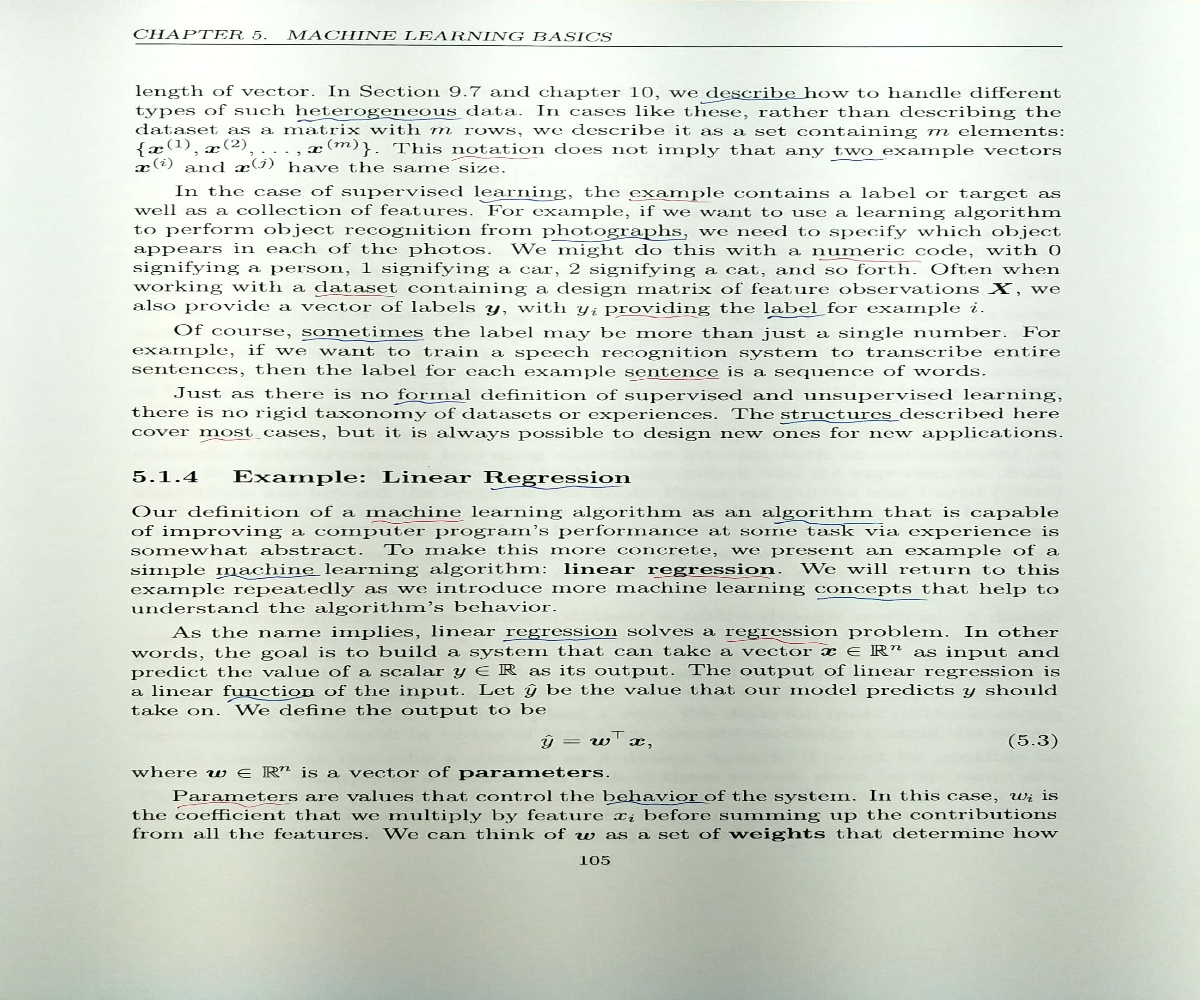underline: (549, 234, 690, 244), (296, 116, 465, 124), (700, 95, 813, 106), (815, 255, 925, 266), (726, 637, 831, 648), (298, 336, 425, 345), (777, 417, 903, 426), (651, 572, 773, 581), (489, 483, 624, 491), (501, 635, 617, 644), (771, 518, 884, 527), (816, 594, 926, 603), (368, 517, 466, 527), (217, 573, 323, 582), (174, 800, 293, 808), (450, 154, 545, 164), (627, 196, 712, 206), (611, 312, 703, 321), (225, 694, 317, 703), (477, 196, 567, 205), (315, 291, 397, 300), (603, 800, 708, 807), (628, 375, 725, 381), (392, 398, 463, 406), (830, 156, 888, 165), (764, 312, 827, 320), (198, 436, 267, 443)
